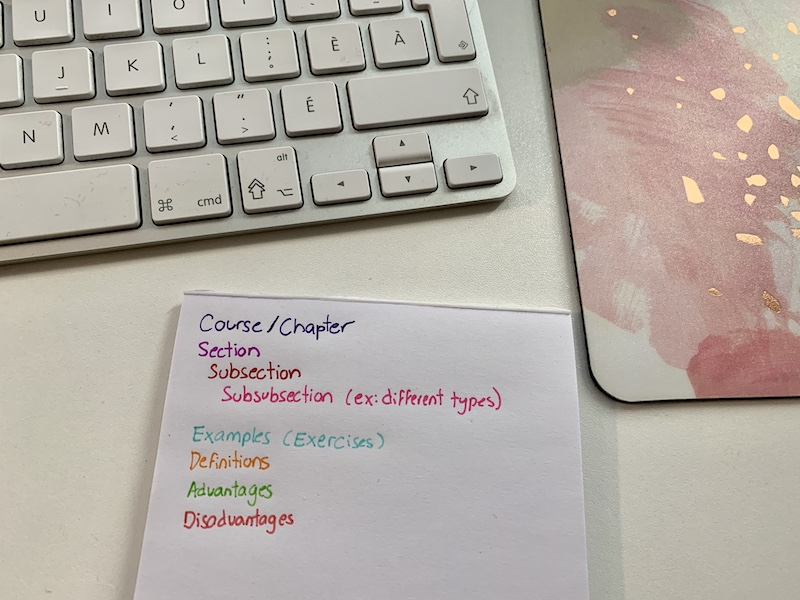Note: (134, 294, 583, 600)
